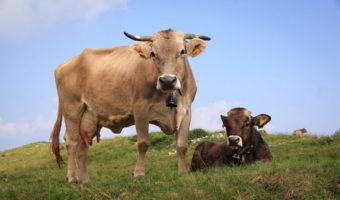muzzles: (154, 74, 184, 96)
